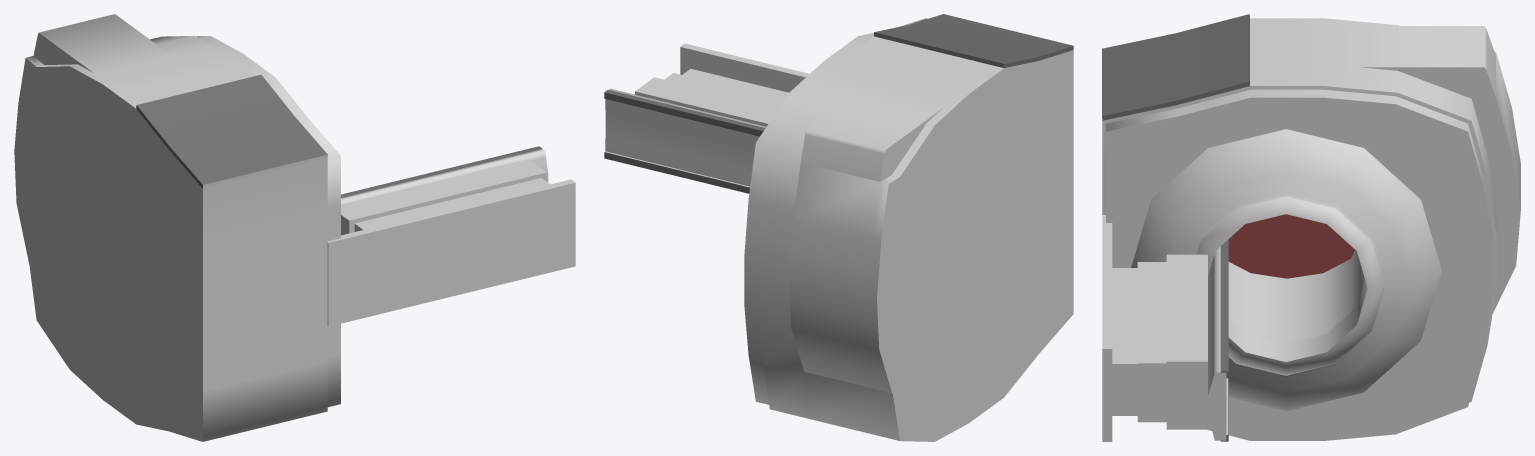
The picture shows the model from 3 angles, left to right: view 1: azimuth 30°, elevation 25°; view 2: azimuth 150°, elevation 25°; view 3: azimuth 270°, elevation 25°; orthographic projection. The views are drawn at different scales.
Parts seen in each view (by area): view 1: Cube.001; view 2: Cube.001; view 3: Cube.001.
Part boxes in pixels (<box>): Cube.001: <box>14,14,575,441</box>; Cube.001: <box>604,14,1073,441</box>; Cube.001: <box>1102,14,1520,441</box>.
Bounding box in the file's own units: 324 × 251 × 269.
